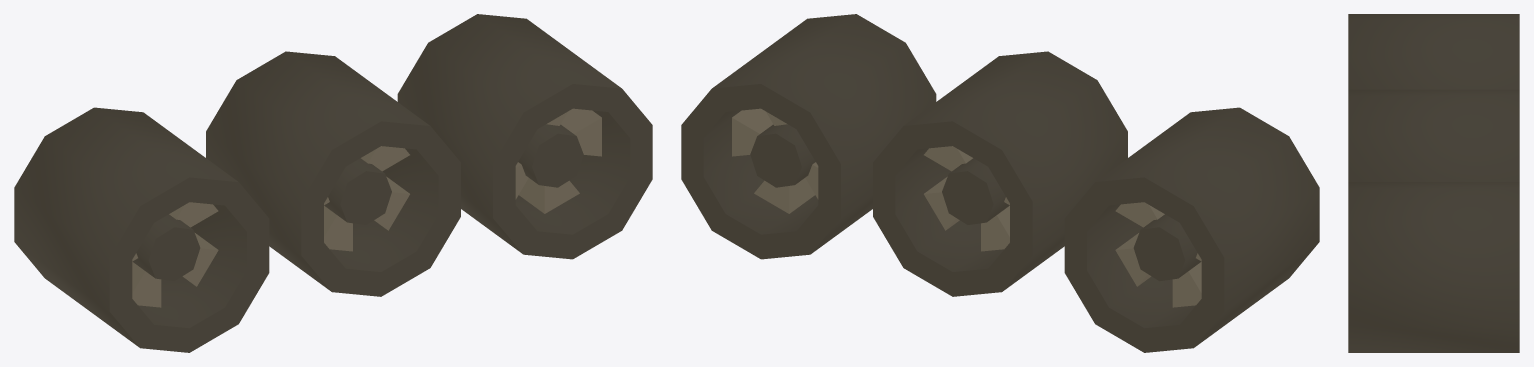
File: ventilation00.fbx
3 renders of one model, left to right at view 1: azimuth 30°, elevation 25°; view 2: azimuth 150°, elevation 25°; view 3: azimuth 270°, elevation 25°, orthographic. The views are drawn at different scales.
Parts seen in each view (by area): view 1: ventilation01, ventilation02; view 2: ventilation01, ventilation02; view 3: ventilation01.
Boxes of the visible parts, x1,y1,x2,y2 form: ventilation01: (14,14,652,352); ventilation02: (132,108,601,307); ventilation01: (681,14,1319,352); ventilation02: (732,108,1201,307); ventilation01: (1348,14,1519,352).
Bounding box in the file's own units: 6.76 × 2.2 × 2.06.
